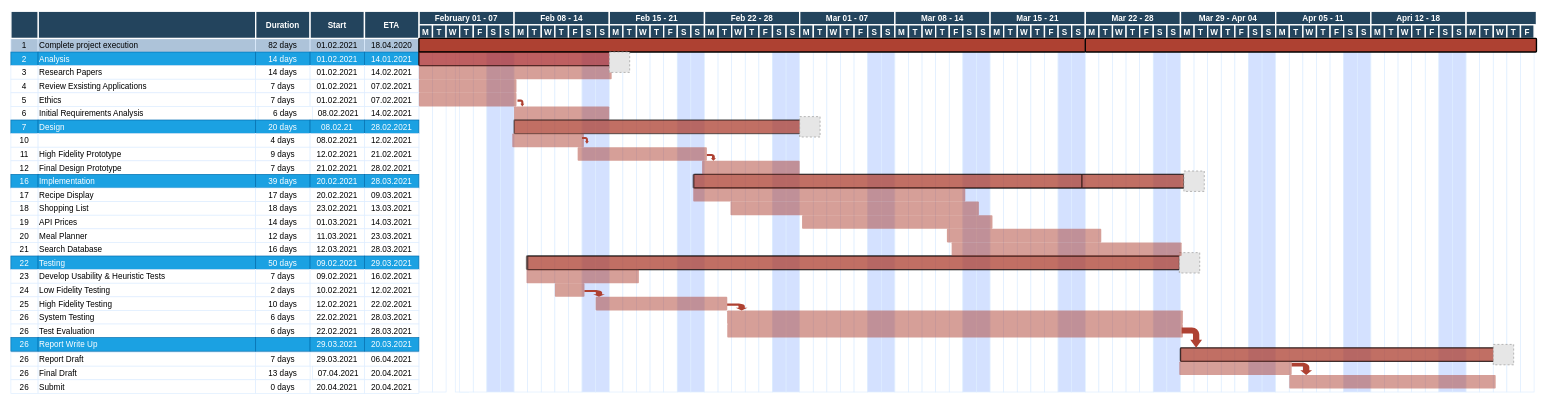
Some shapes in this 1548 by 405 pixel diagram are drawn without their labels. Grey dashed boxes stand in for pictures. Each missing label, with the centre of its shape:
"Apr 19 - 23" belongs at point 1501,17.
"Low Fidelity Prototype" belongs at point 146,140.
"Task Name" belongs at point 146,24.
